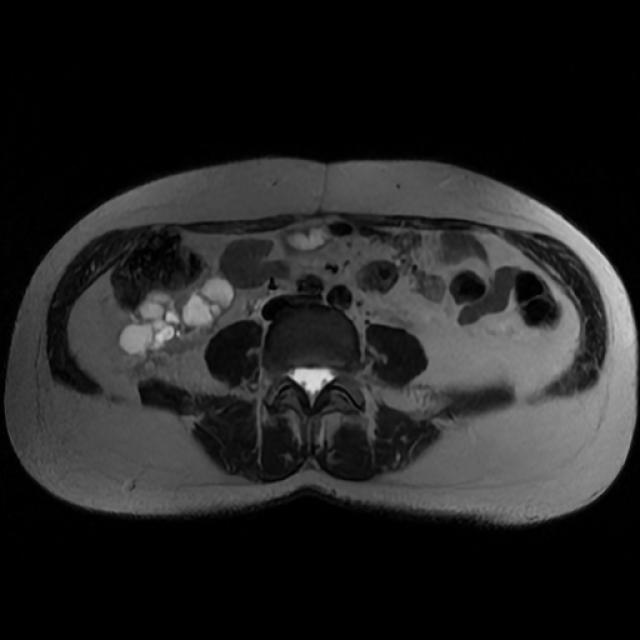sag: (116, 275, 237, 374)
